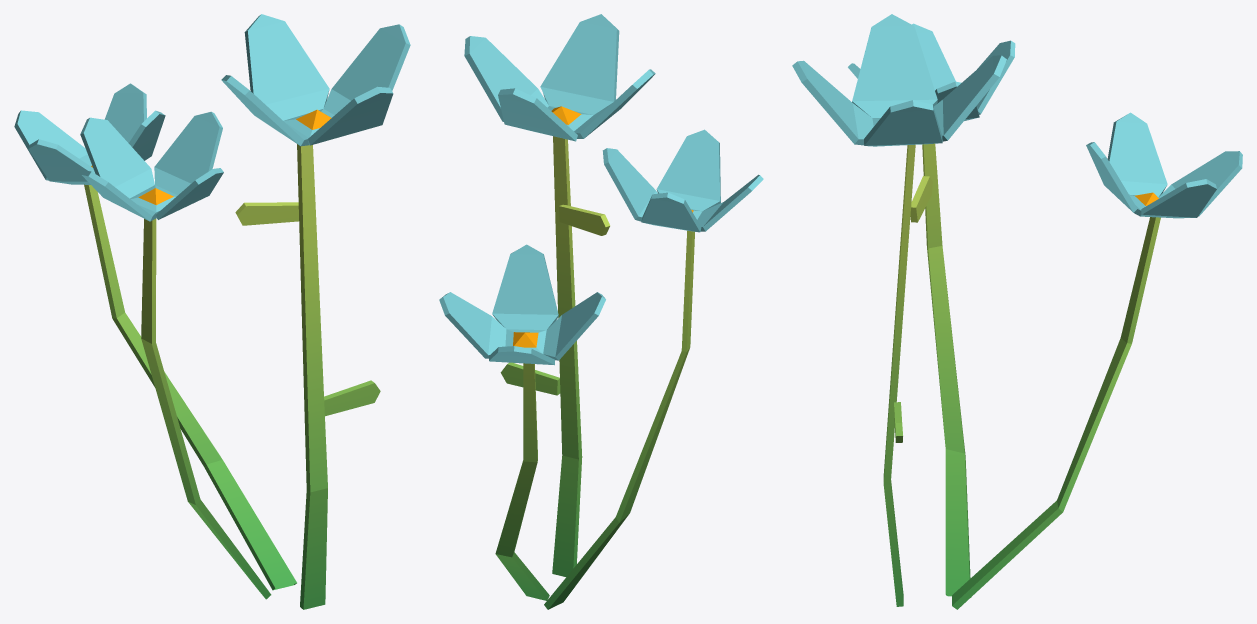
File: Flowers.fbx
3 views of the same model, side by side, from view 1: azimuth 30°, elevation 25°; view 2: azimuth 150°, elevation 25°; view 3: azimuth 270°, elevation 25° (orthographic). The views are drawn at different scales.
Visible parts, largest first — view 1: Flowers; view 2: Flowers; view 3: Flowers.
Part boxes in pixels (x1=…): Flowers: x1=14, y1=14, x2=410, y2=609; Flowers: x1=439, y1=14, x2=763, y2=609; Flowers: x1=792, y1=14, x2=1242, y2=609.
Bounding box in the file's own units: 0.4895 × 0.8289 × 0.6137.
